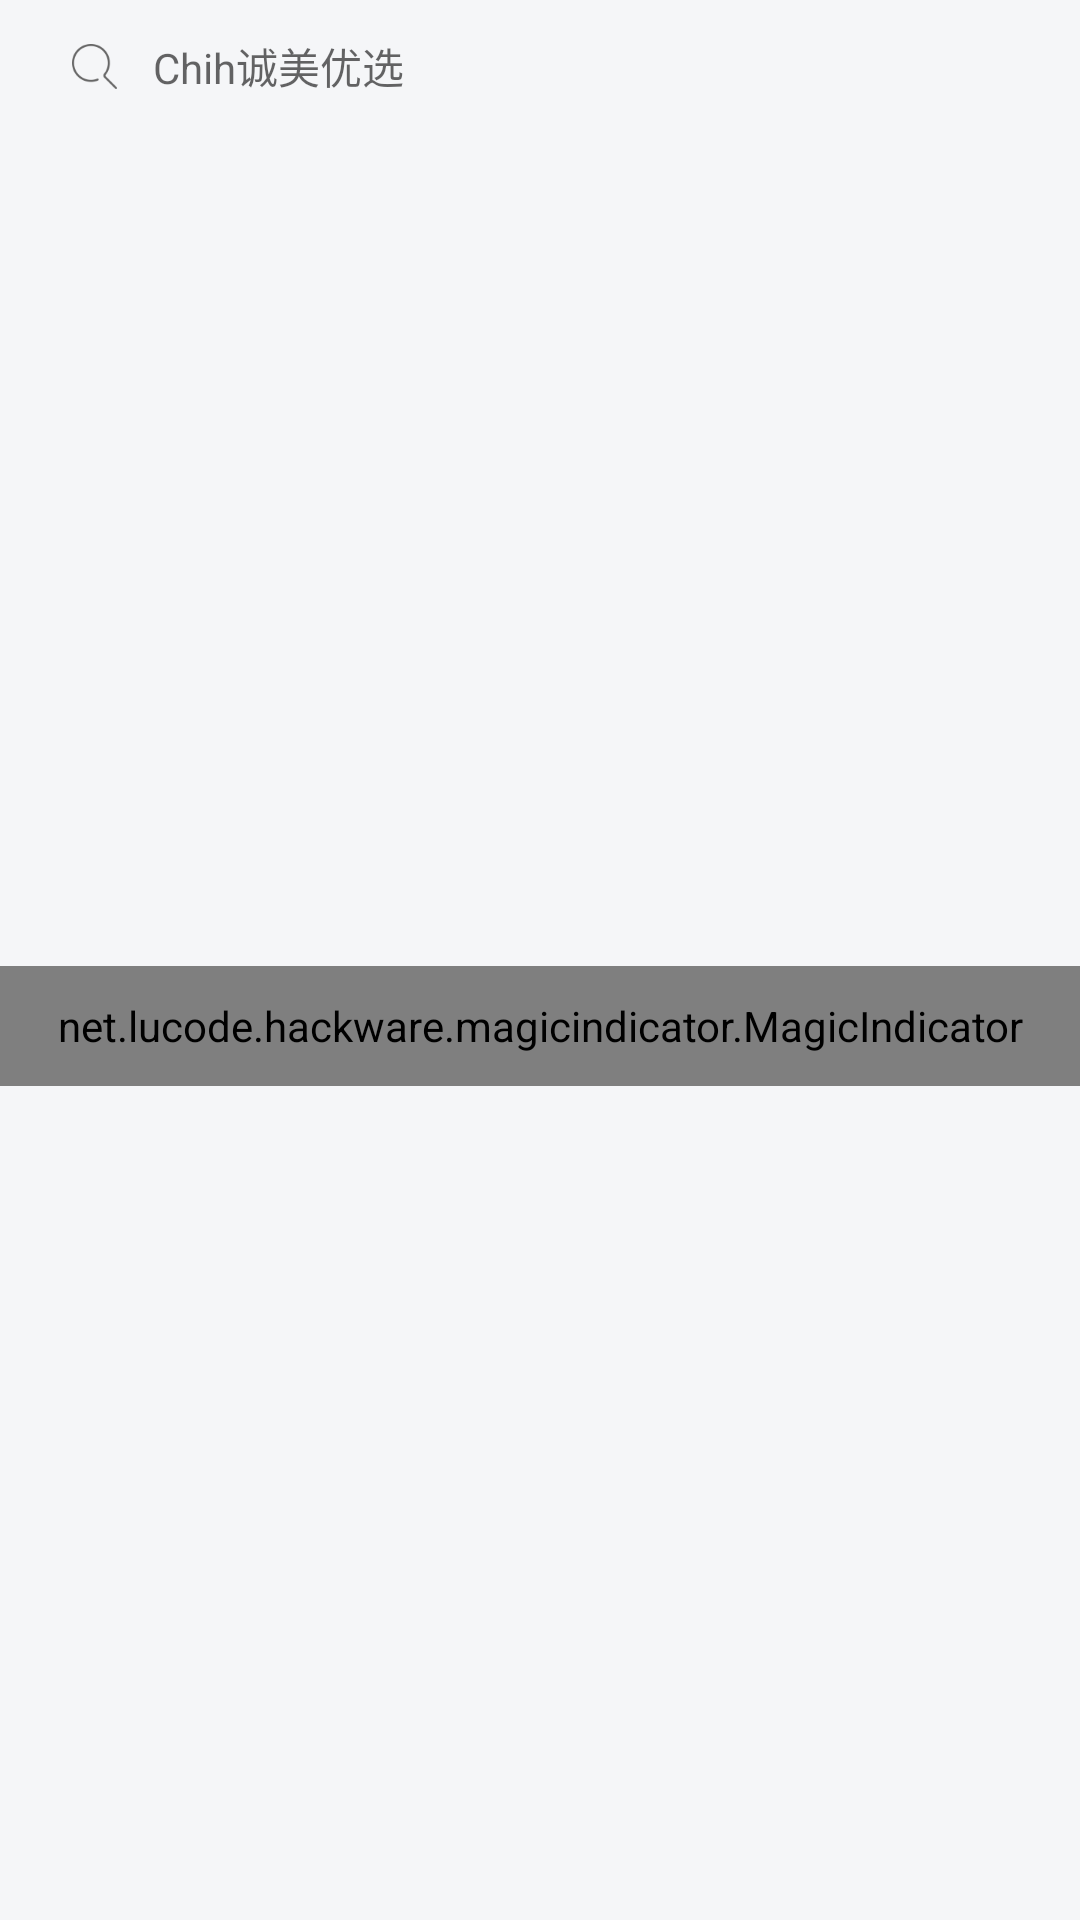

Icon click points for this 1080px x 1920px phone screenshot, format (x=x, y=y):
search: (x=94, y=66)
